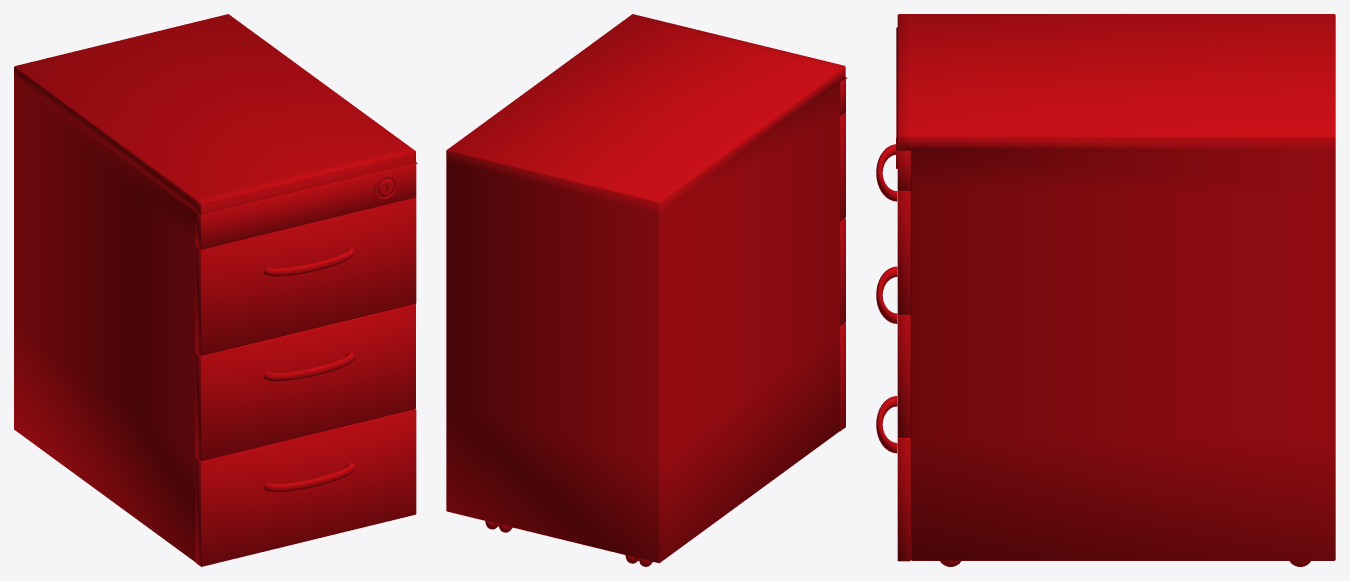
The model's file is Gabeta.obj.
3 views of the same model, side by side, from view 1: azimuth 30°, elevation 25°; view 2: azimuth 150°, elevation 25°; view 3: azimuth 270°, elevation 25° (orthographic). The views are drawn at different scales.
Parts seen in each view (by area): view 1: Cube_Cube_001; view 2: Cube_Cube_001; view 3: Cube_Cube_001.
Part boxes in pixels (x1=…): Cube_Cube_001: x1=14, y1=14, x2=417, y2=566; Cube_Cube_001: x1=446, y1=14, x2=847, y2=566; Cube_Cube_001: x1=876, y1=14, x2=1335, y2=566.
Size of the model in its own units: 0.3438 by 0.5807 by 0.5391.
Materials: 1 (1 with a texture image).
